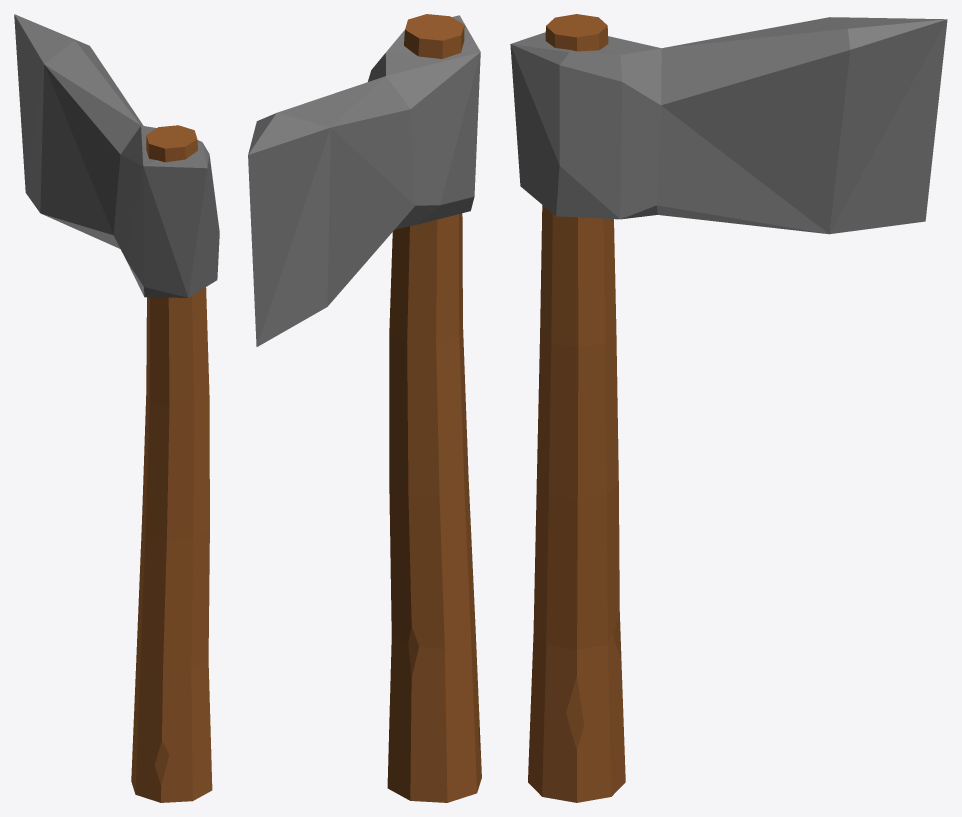
The model's file is axe.fbx.
3 views of the same model, side by side, from view 1: azimuth 30°, elevation 25°; view 2: azimuth 150°, elevation 25°; view 3: azimuth 270°, elevation 25° (orthographic). The views are drawn at different scales.
Visible parts, largest first — view 1: axe; view 2: axe; view 3: axe.
Part boxes in pixels (x1,y1,x2,y2): axe: (14, 14, 219, 802); axe: (248, 14, 481, 802); axe: (510, 14, 947, 802).
Size of the model in its own units: 0.1957 by 1.57 by 0.8142.
